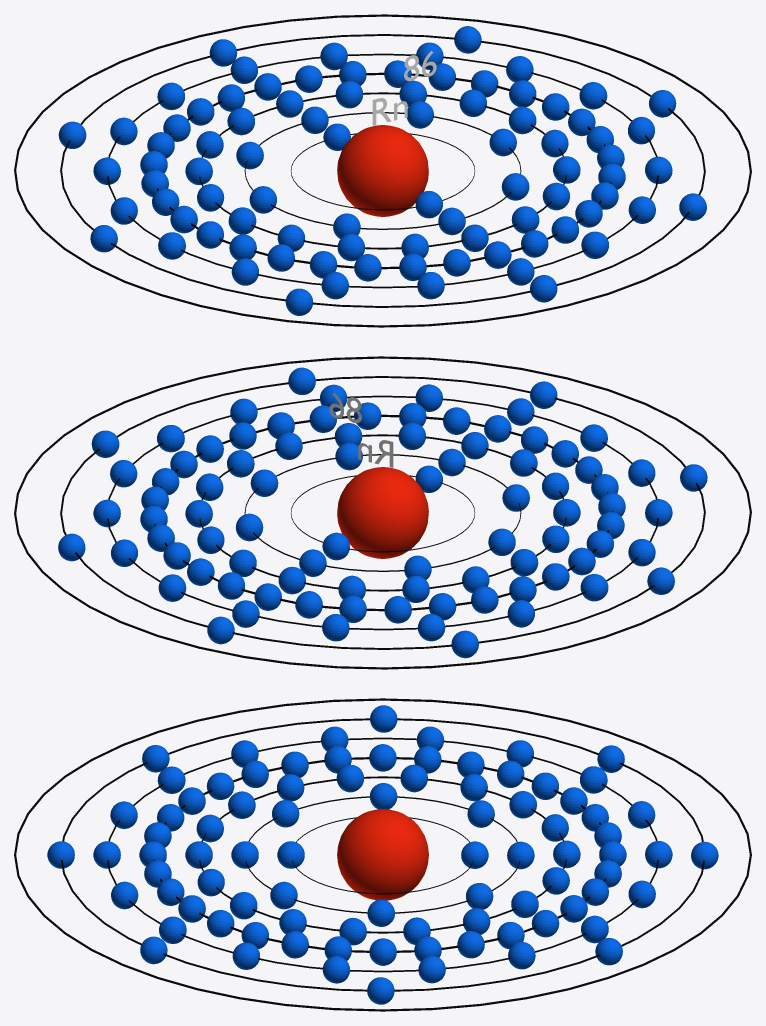
3 renders of one model, top to bottom at view 1: azimuth 30°, elevation 25°; view 2: azimuth 150°, elevation 25°; view 3: azimuth 270°, elevation 25°, orthographic.
Visible parts, largest first — view 1: Rn4, Rn5, Rn3, Proton, Rn6, Rn2, n7, n6, n5, Rn1, n3, n4 (+1 smaller); view 2: Rn4, Rn5, Rn3, Proton, Rn6, Rn2, n7, n6, n5, Rn1, n3, n4 (+1 smaller); view 3: Rn4, Rn3, Rn5, Proton, Rn6, Rn2, n7, n6, n5, Rn1, n3, n4 (+2 smaller).
Boxes of the visible parts, left/top/right/bottom form: Rn4: left=140, top=60, right=625, bottom=281; Rn5: left=93, top=42, right=672, bottom=299; Rn3: left=185, top=80, right=580, bottom=261; Proton: left=337, top=125, right=428, bottom=216; Rn6: left=58, top=26, right=706, bottom=315; Rn2: left=236, top=101, right=529, bottom=238; n7: left=14, top=14, right=751, bottom=327; n6: left=60, top=34, right=705, bottom=307; n5: left=107, top=53, right=658, bottom=288; Rn1: left=323, top=123, right=442, bottom=218; n3: left=199, top=92, right=566, bottom=249; n4: left=152, top=72, right=611, bottom=269; Rn4: left=140, top=402, right=625, bottom=623; Rn5: left=93, top=384, right=672, bottom=641; Rn3: left=185, top=422, right=580, bottom=602; Proton: left=337, top=467, right=428, bottom=558; Rn6: left=58, top=367, right=707, bottom=658; Rn2: left=235, top=442, right=529, bottom=579; n7: left=14, top=356, right=751, bottom=669; n6: left=60, top=376, right=705, bottom=649; n5: left=107, top=395, right=658, bottom=630; Rn1: left=322, top=465, right=442, bottom=560; n3: left=199, top=434, right=566, bottom=591; n4: left=153, top=414, right=613, bottom=611; Rn4: left=139, top=744, right=626, bottom=965; Rn3: left=185, top=764, right=580, bottom=945; Rn5: left=93, top=726, right=672, bottom=983; Proton: left=337, top=809, right=428, bottom=900; Rn6: left=47, top=705, right=718, bottom=1004; Rn2: left=231, top=783, right=534, bottom=926; n7: left=14, top=698, right=751, bottom=1011; n6: left=61, top=718, right=704, bottom=991; n5: left=107, top=737, right=658, bottom=972; Rn1: left=277, top=841, right=488, bottom=868; n3: left=199, top=776, right=566, bottom=933; n4: left=153, top=757, right=612, bottom=952.
Bounding box in the file's own units: 802 × 180 × 802.
